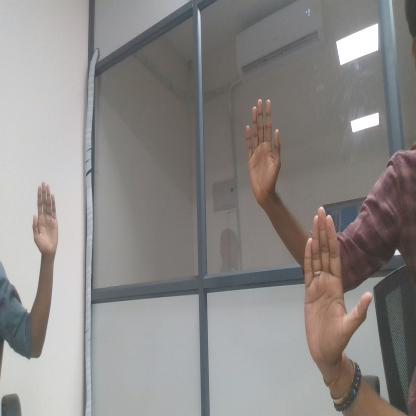Stop: (294, 194, 382, 385), (234, 82, 304, 223), (23, 170, 69, 275)
